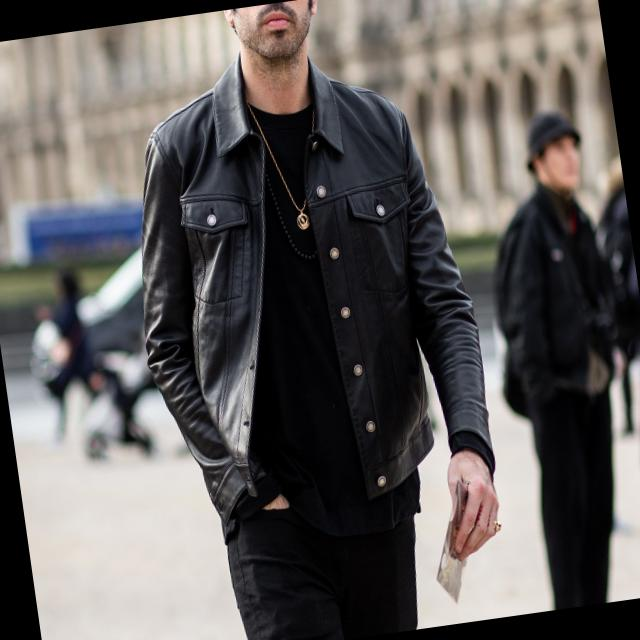Jacket: (103, 49, 511, 539), (463, 184, 640, 447)
